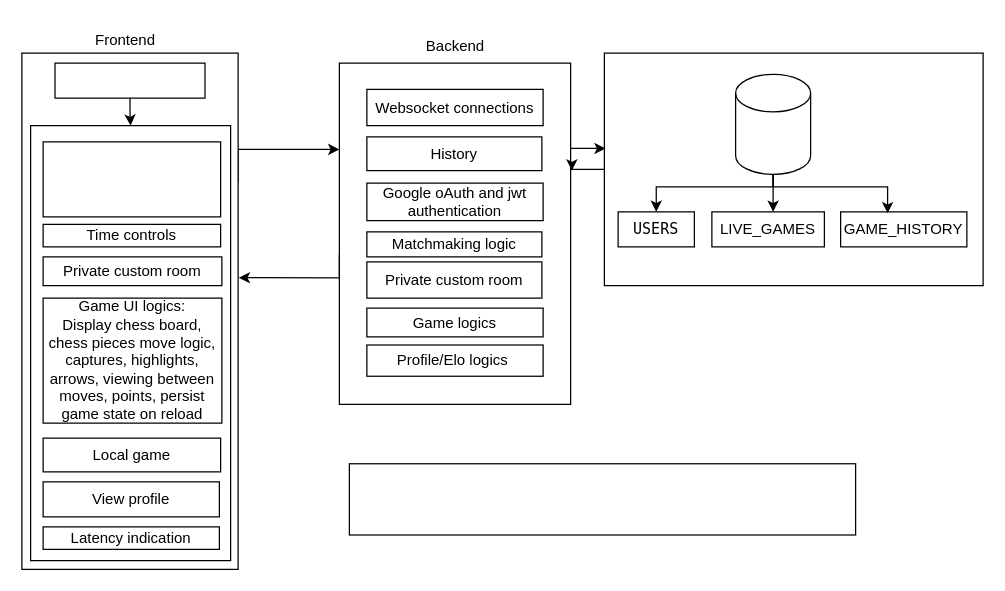
Some shapes in this 1005 by 591 pixel diagram are drawn without their labels. The shapes that lost their labels are listed below. From the top down, each one's centre as x and y in pixels, then its label:
At point 129,80: "Google oAuth".
At point 772,123: "SQLITE Database".
At point 131,179: "View history, and game moves, upload/download games as json".
At point 602,498: "Deployed to Google Cloud using Docker and CI/CD using cloudbuild.yaml".
